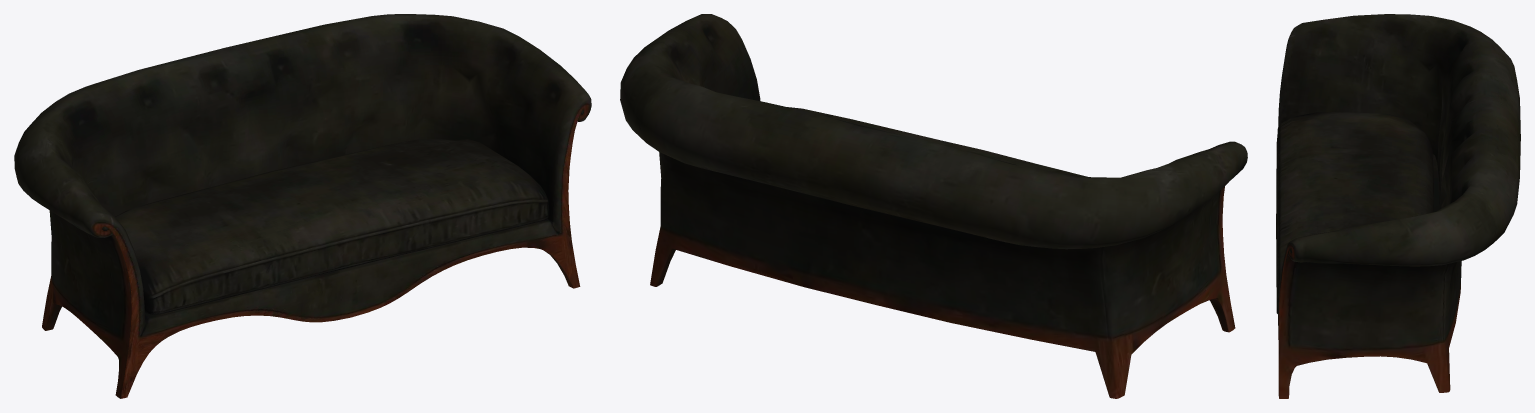
The model's file is sofa-leather.glb.
The picture shows the model from 3 angles, left to right: view 1: azimuth 30°, elevation 25°; view 2: azimuth 150°, elevation 25°; view 3: azimuth 270°, elevation 25°; orthographic projection. The views are drawn at different scales.
Parts seen in each view (by area): view 1: sofa_02_Base; view 2: sofa_02_Base; view 3: sofa_02_Base.
Part boxes in pixels (x1,y1,x2,y2): sofa_02_Base: [14, 14, 591, 398]; sofa_02_Base: [620, 14, 1247, 398]; sofa_02_Base: [1276, 14, 1520, 398].
Size of the model in its own units: 1.81 by 0.71 by 0.8199.
1 material, 1 textured.
